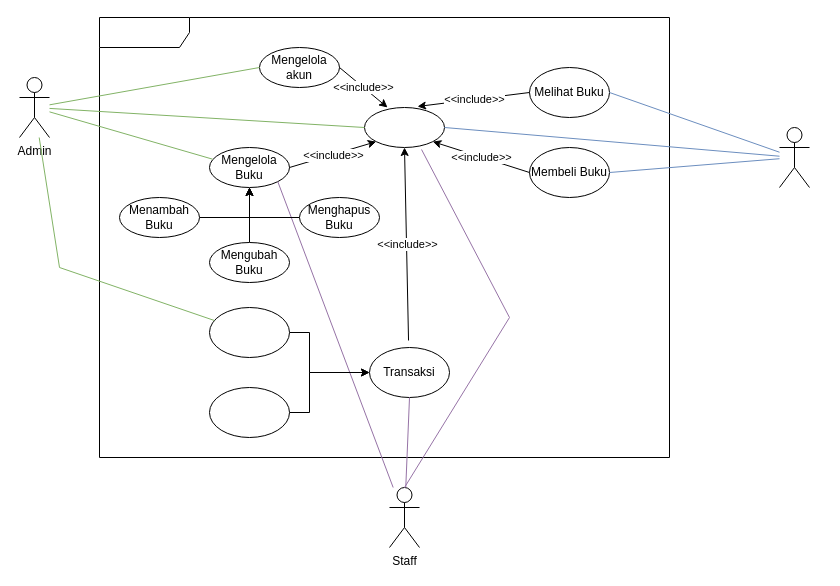
This 840x586 diagram has some shape labels left out. Each missing label, with the box of its shape:
Login: (364, 106, 444, 148)
Membuat transaksi: (208, 386, 290, 438)
Pelanggan: (778, 126, 810, 188)
riwayat transaksi: (208, 306, 290, 358)
Smart Bookstore: (98, 16, 670, 458)
